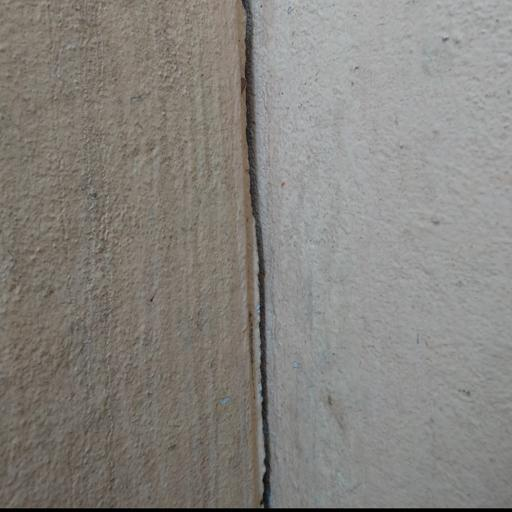major_crack: (218, 0, 296, 508)
